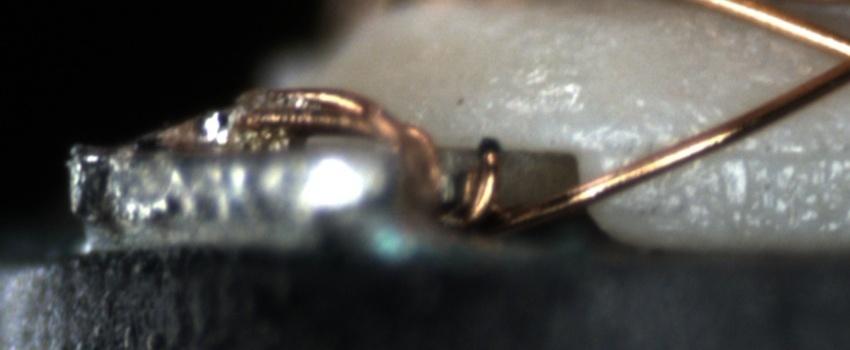DL: (627, 127, 849, 182)
TE: (236, 81, 505, 235)
